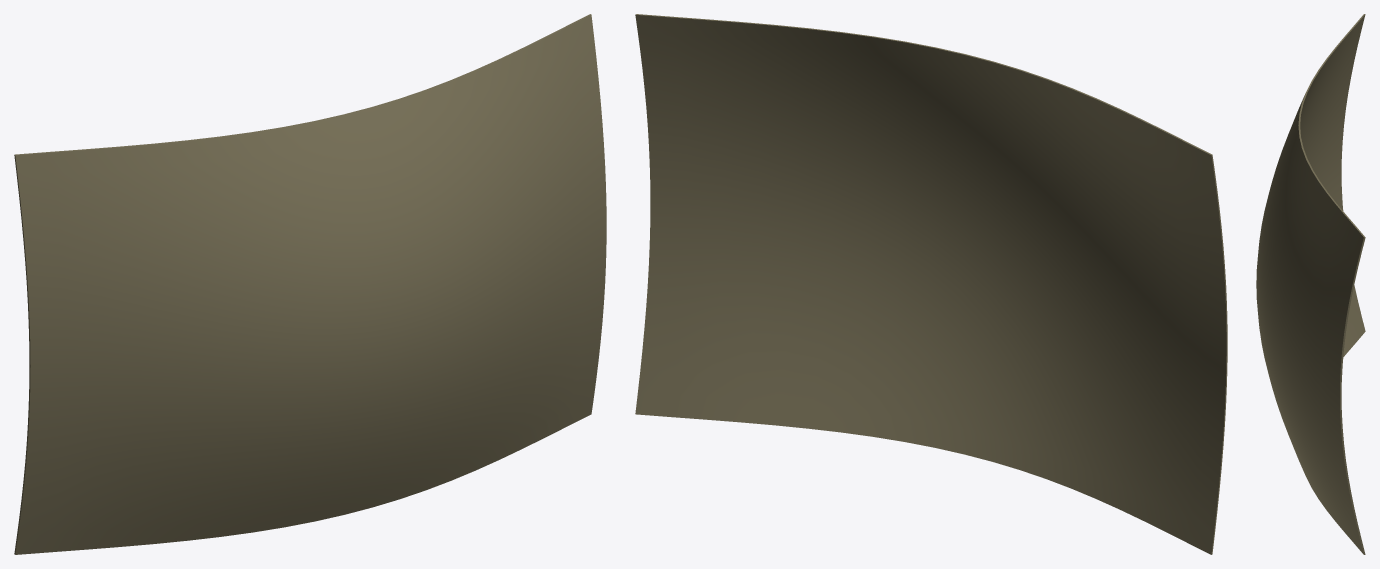
Rendered from Vela.fbx.
3 views of the same model, side by side, from view 1: azimuth 30°, elevation 25°; view 2: azimuth 150°, elevation 25°; view 3: azimuth 270°, elevation 25° (orthographic). The views are drawn at different scales.
Parts seen in each view (by area): view 1: polySurface1; view 2: polySurface1; view 3: polySurface1.
Part boxes in pixels (x1,y1,x2,y2): polySurface1: [14, 14, 606, 554]; polySurface1: [635, 14, 1227, 554]; polySurface1: [1256, 14, 1365, 554].
Size of the model in its own units: 3.25 by 2.16 by 0.6724.
